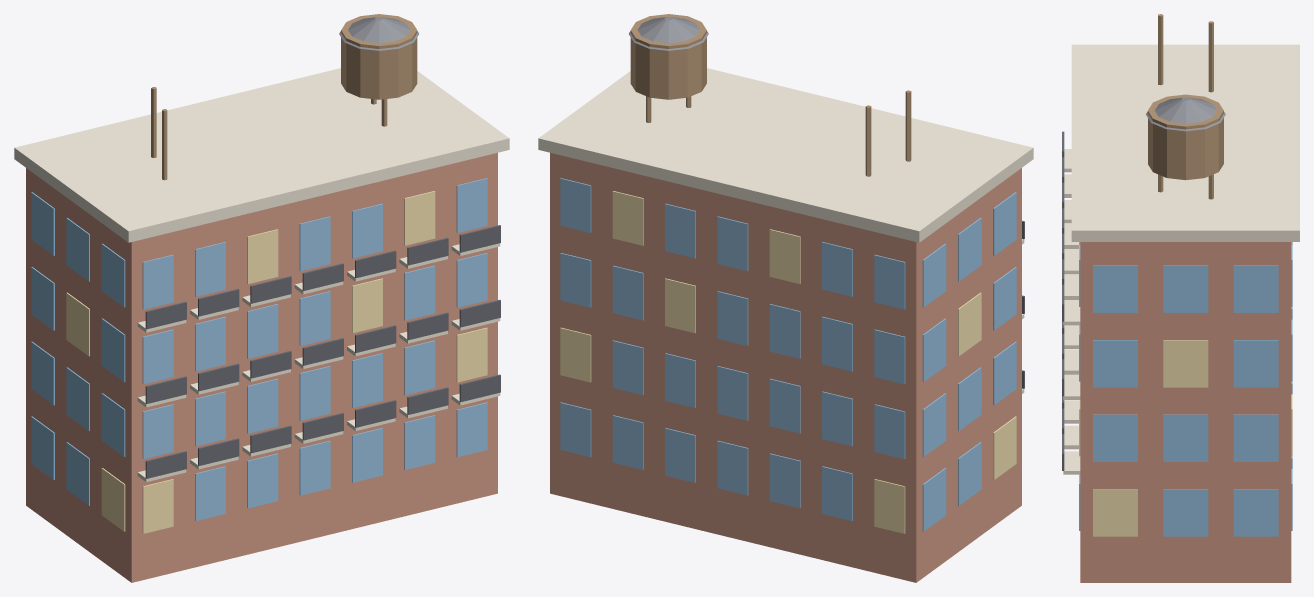
File: city__flats.fbx
3 renders of one model, left to right at view 1: azimuth 30°, elevation 25°; view 2: azimuth 150°, elevation 25°; view 3: azimuth 270°, elevation 25°, orthographic.
Visible parts, largest first — view 1: city__flats; view 2: city__flats; view 3: city__flats.
Boxes of the visible parts, <box> form: city__flats: <box>14,14,509,582</box>; city__flats: <box>538,14,1033,582</box>; city__flats: <box>1062,14,1299,582</box>.
Bounding box in the file's own units: 10.4 × 11.8 × 5.63.
